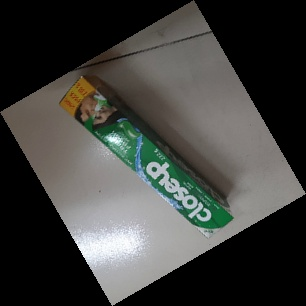CloseUp Xanh: (58, 74, 234, 242)
